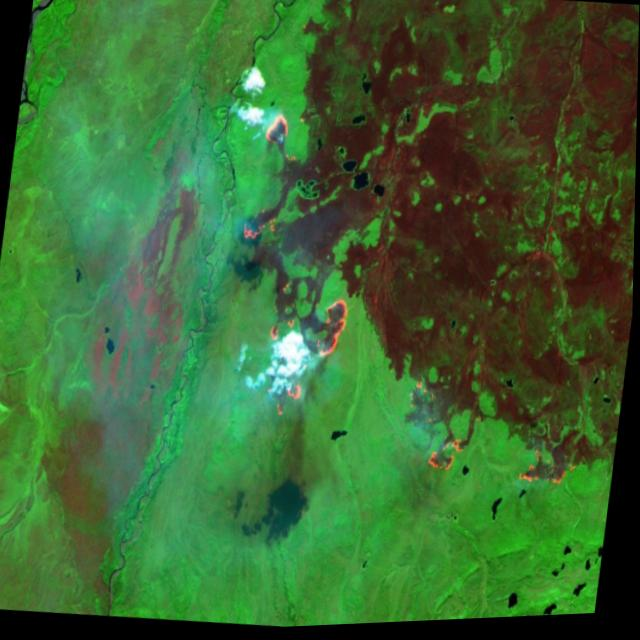fire: (251, 273, 363, 431), (390, 364, 481, 497), (511, 436, 587, 505), (252, 99, 302, 167), (232, 197, 281, 250)
